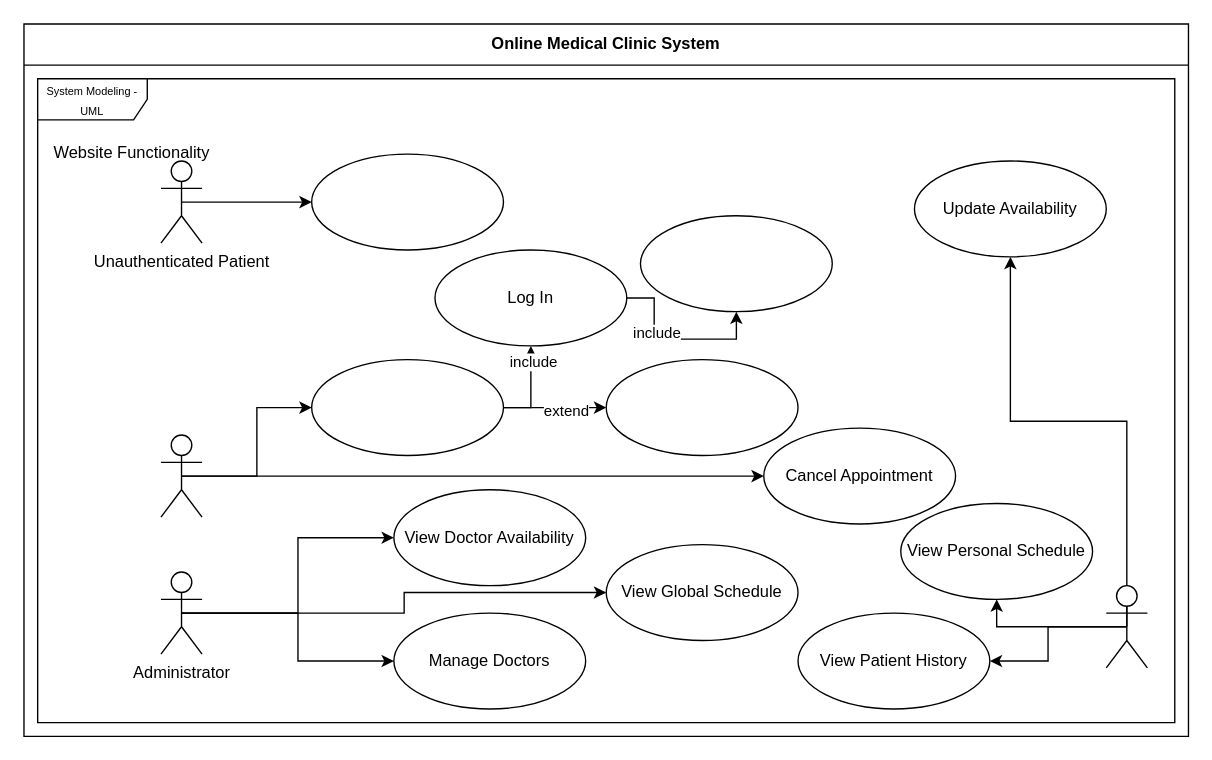
The diagram is 1212 pixels wide and 760 high, and some of its shapes have lost their labels. Here are the shapes that lost their labels. From the top down, the centre of each, then its label:
pixel 406 201: View Information Pages
pixel 735 263: Register
pixel 406 407: Book Appointment
pixel 701 407: Send PDF Summary
pixel 181 475: Authenticated Patient
pixel 1126 626: Doctor
